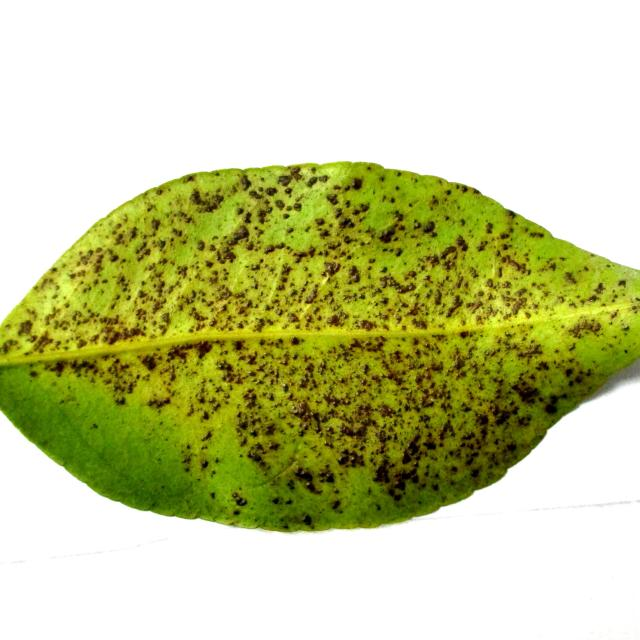melanose: (0, 162, 640, 531)
